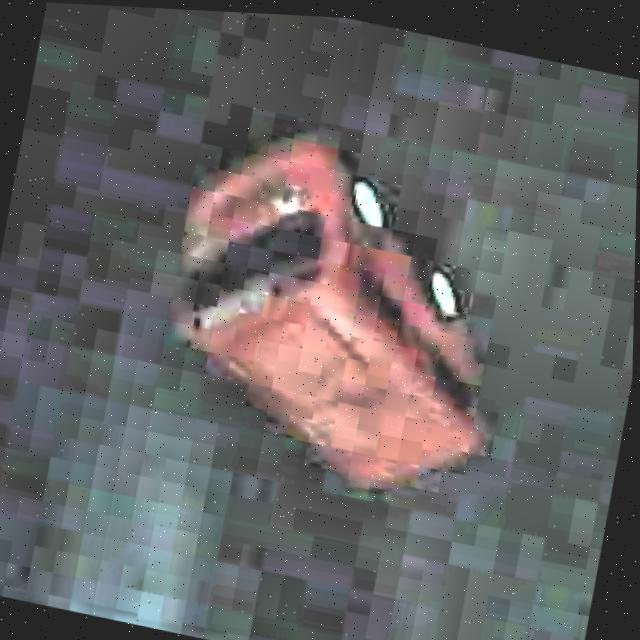bus: (128, 89, 548, 540)
